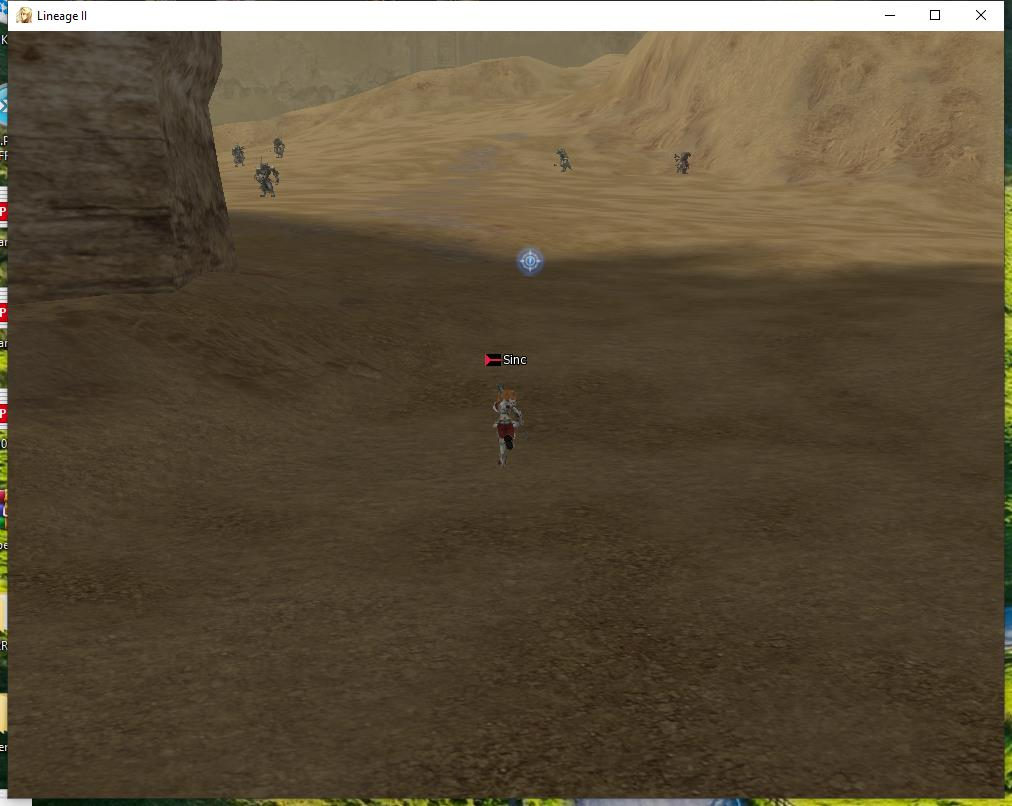monster: (258, 159, 286, 202), (667, 142, 706, 172), (555, 150, 581, 175), (225, 138, 247, 166), (270, 133, 291, 159)
